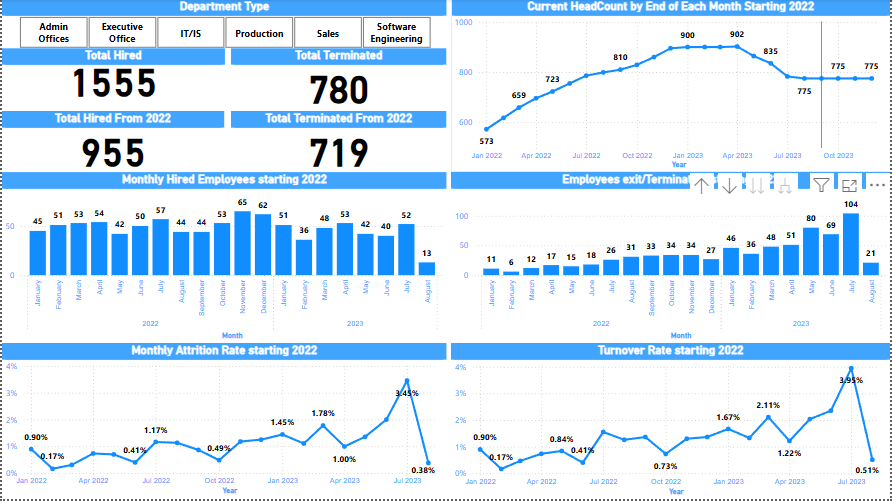

The page's visual inventory and layout, read from the dashboard file:
{"tool":"powerbi","page":{"name":"Page 1","canvas":[1280,720],"ordinal":0},"visuals":[{"type":"clusteredColumnChart","title":"Monthly Hired Employees starting 2022","fields":{"Category":["Calendar.Date.Variation.Date Hierarchy.Year","Calendar.Date.Variation.Date Hierarchy.Month"],"Y":[" DAX Measures.Hired"]},"box":[0,249.5,640.5,246.6],"z":0},{"type":"clusteredColumnChart","title":"Employees exit/Termination starting 2022","fields":{"Category":["Calendar.Date.Variation.Date Hierarchy.Year","Calendar.Date.Variation.Date Hierarchy.Month"],"Y":[" DAX Measures.Terminated"]},"box":[647.2,249.5,632.8,246.6],"z":1000},{"type":"lineChart","title":"Current HeadCount by End of Each Month Starting 2022","fields":{"Y":[" DAX Measures.ACTIVE"],"Category":["Calendar.Date.Variation.Date Hierarchy.Year","Calendar.Date.Variation.Date Hierarchy.Month"]},"box":[647.2,0,632.8,248.9],"z":2000},{"type":"card","title":"Total Hired From 2022","fields":{"Values":[" DAX Measures.Hired"]},"box":[0,160.8,319.8,87.6],"z":3000},{"type":"card","title":"Total Terminated From 2022","fields":{"Values":[" DAX Measures.Terminated"]},"box":[330.4,160.8,310.1,87.6],"z":4000},{"type":"lineChart","title":"Monthly Attrition Rate starting 2022","fields":{"Category":["Calendar.Date.Variation.Date Hierarchy.Year","Calendar.Date.Variation.Date Hierarchy.Month"],"Y":[" DAX Measures.MonthlyAttritionRate"]},"box":[0,495.9,640,223.6],"z":5000},{"type":"card","title":"Total Hired","fields":{"Values":[" DAX Measures.Total Hired"]},"box":[0,70.3,320.7,87.6],"z":6000},{"type":"card","title":"Total Terminated","fields":{"Values":[" DAX Measures.Total Terminated"]},"box":[330.4,70.3,310.1,87.6],"z":7000},{"type":"lineChart","title":"Turnover Rate starting 2022","fields":{"Category":["Calendar.Date.Variation.Date Hierarchy.Year","Calendar.Date.Variation.Date Hierarchy.Month"],"Y":[" DAX Measures.TurnOver"]},"box":[647.2,495.8,632.8,223.8],"z":8000},{"type":"slicer","title":"Department Type","fields":{"Values":["HC_Data.DepartmentType"]},"box":[0,0,640.5,71.3],"z":9000}]}

Visuals, with their boxes in screenshot pixels (x1, y1, x2, y2), scaled from the page's 1280x720 canvas onto the 893x501 screenshot:
"Monthly Hired Employees starting 2022" clusteredColumnChart: [x1=0, y1=174, x2=447, y2=345]
"Employees exit/Termination starting 2022" clusteredColumnChart: [x1=452, y1=174, x2=892, y2=345]
"Current HeadCount by End of Each Month Starting 2022" lineChart: [x1=452, y1=0, x2=892, y2=173]
"Total Hired From 2022" card: [x1=0, y1=112, x2=223, y2=173]
"Total Terminated From 2022" card: [x1=231, y1=112, x2=447, y2=173]
"Monthly Attrition Rate starting 2022" lineChart: [x1=0, y1=345, x2=446, y2=500]
"Total Hired" card: [x1=0, y1=49, x2=224, y2=110]
"Total Terminated" card: [x1=231, y1=49, x2=447, y2=110]
"Turnover Rate starting 2022" lineChart: [x1=452, y1=345, x2=892, y2=500]
"Department Type" slicer: [x1=0, y1=0, x2=447, y2=50]
